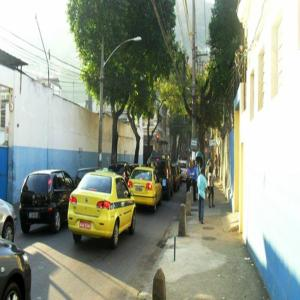Vehicle-registration-plate: (80, 222, 91, 230)
